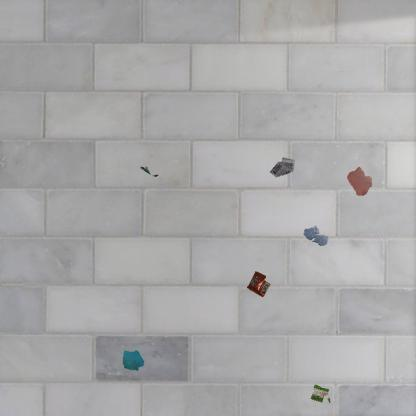dirty: (244, 269, 273, 300), (267, 156, 297, 180), (121, 348, 147, 372), (308, 382, 333, 406), (139, 164, 159, 179)
liquid: (347, 167, 372, 196), (303, 225, 328, 246)
